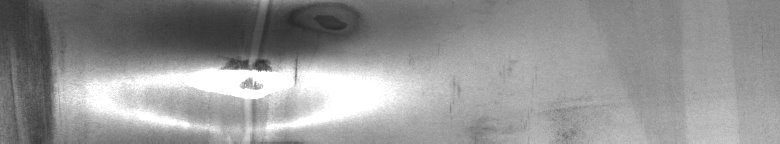ke: (4, 4, 363, 136)
